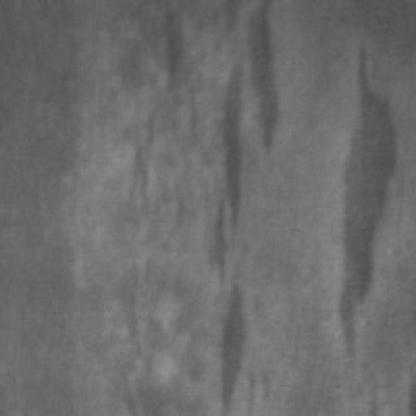inclusion: (202, 0, 280, 410), (330, 31, 402, 362), (152, 0, 191, 94)
